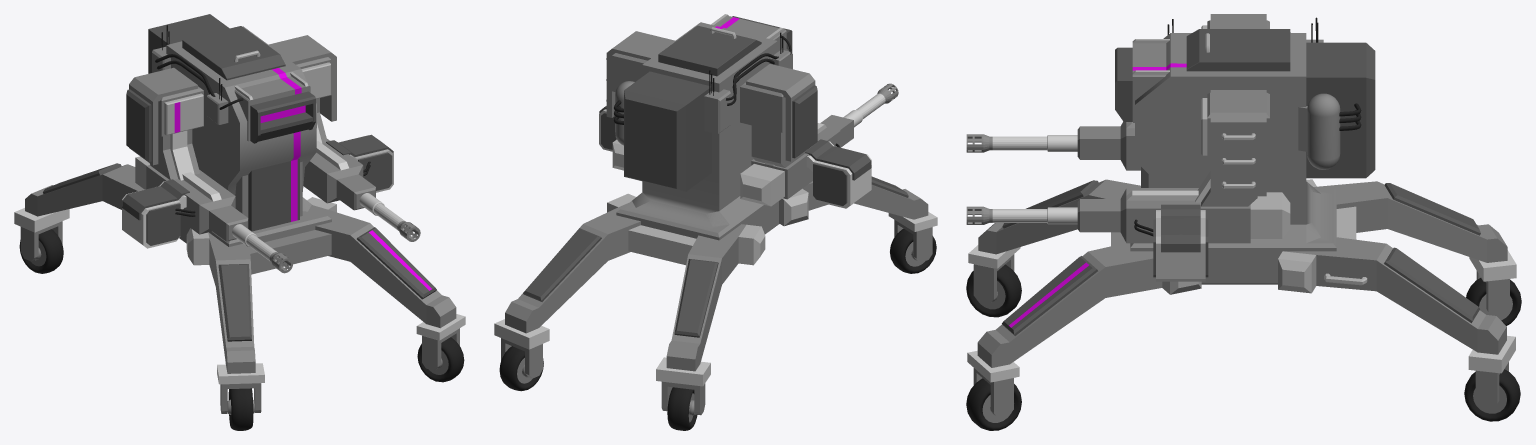
File: Grunt_Enemy_No_Rig.fbx
3 renders of one model, left to right at view 1: azimuth 30°, elevation 25°; view 2: azimuth 150°, elevation 25°; view 3: azimuth 270°, elevation 25°, orthographic. The views are drawn at different scales.
Visible parts, largest first — view 1: extrudedSurface31; view 2: extrudedSurface31; view 3: extrudedSurface31.
Boxes of the visible parts, <box> form: extrudedSurface31: <box>14,14,465,430</box>; extrudedSurface31: <box>494,14,937,430</box>; extrudedSurface31: <box>966,14,1521,430</box>.
Size of the model in its own units: 4.21 by 4.58 by 6.83.
